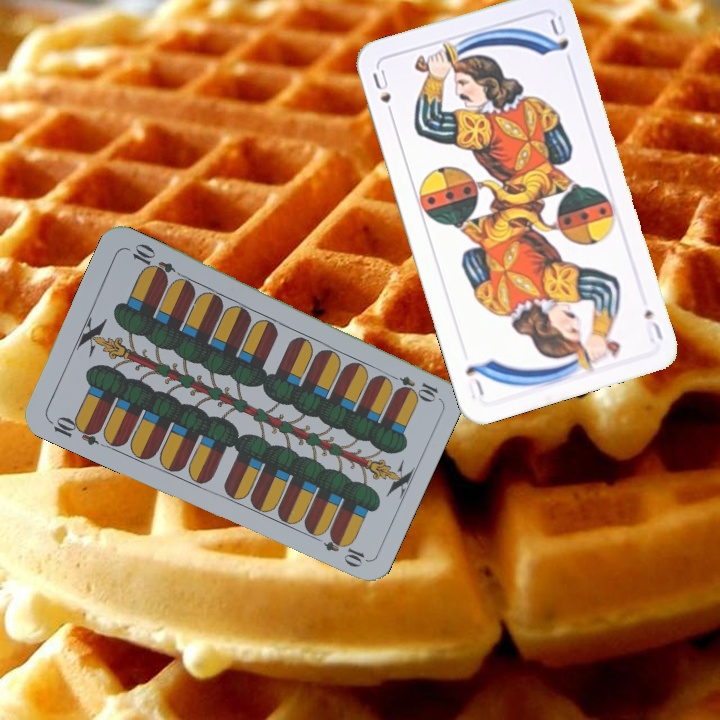E10: (45, 412, 103, 448), (383, 369, 441, 403)
SU: (368, 65, 398, 123), (640, 306, 666, 345)
